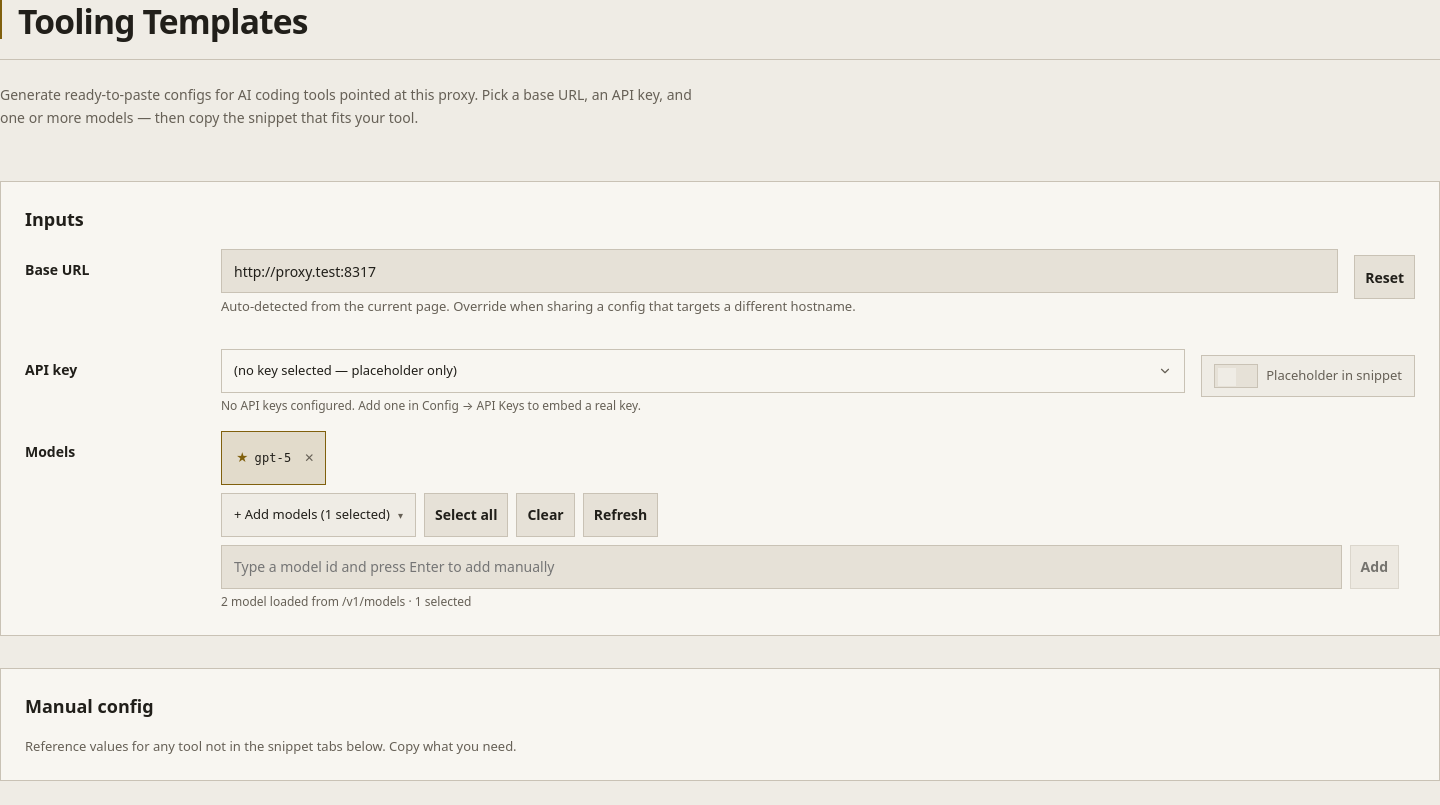
Test: ToolingTemplatesPage model chip actions › clears all selected models when Clear is clicked
Type "extra-model" into the field with placeholder "Type a model id and press Enter to add manually" at (781, 566), box [221,544,1342,588]
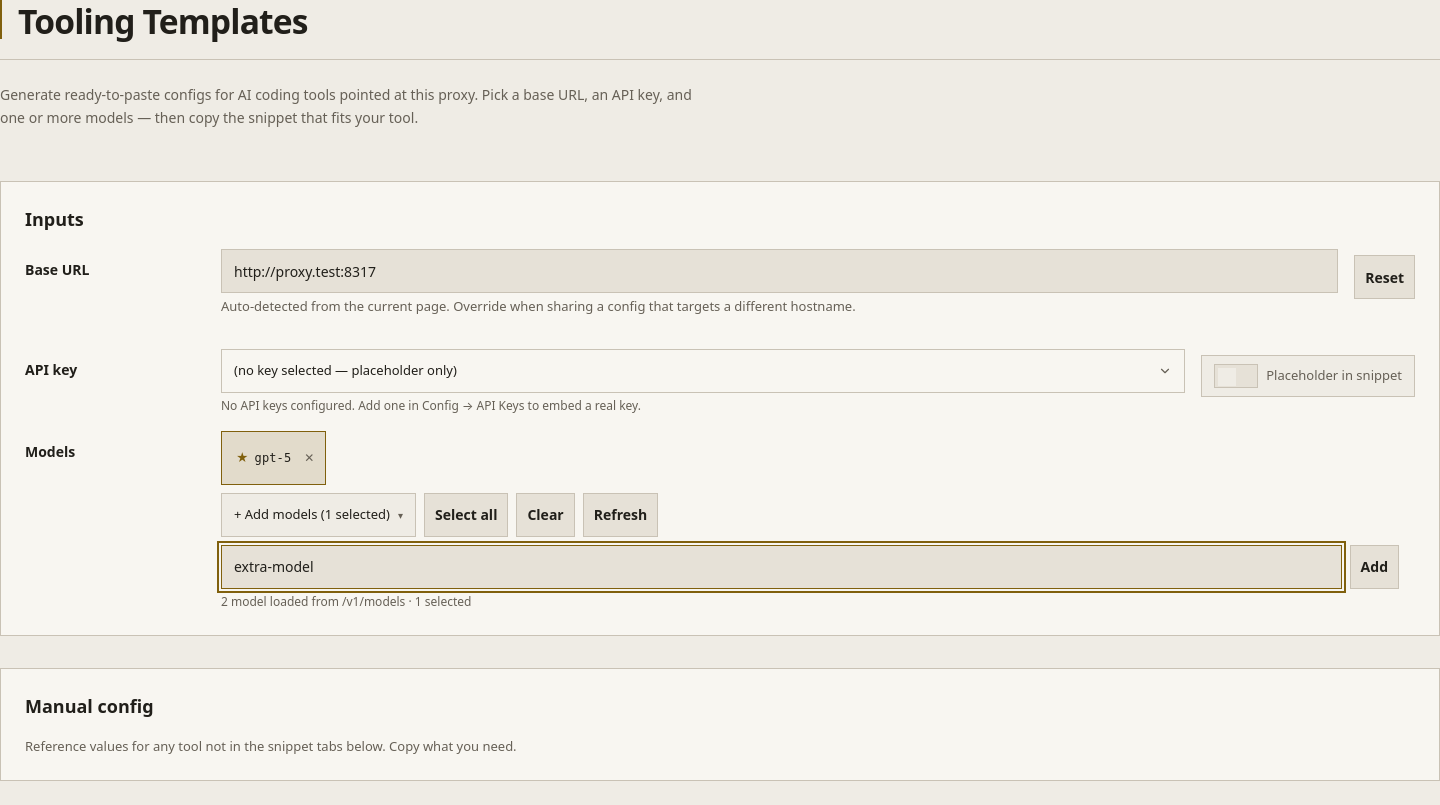
Click the button "Add" at (1374, 566), box [1350,544,1399,588]
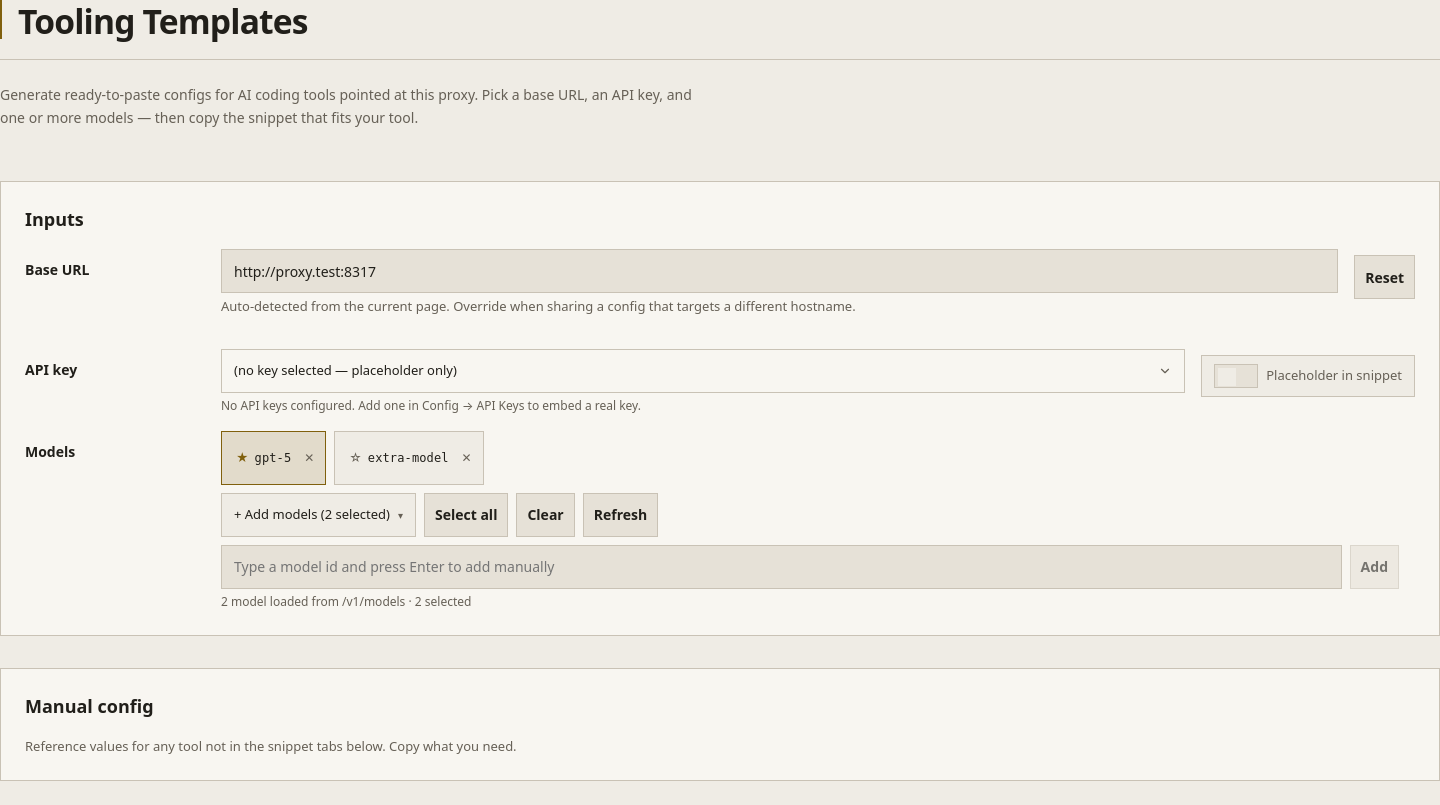
Click the button "Clear" at (546, 514), box [516,492,575,536]
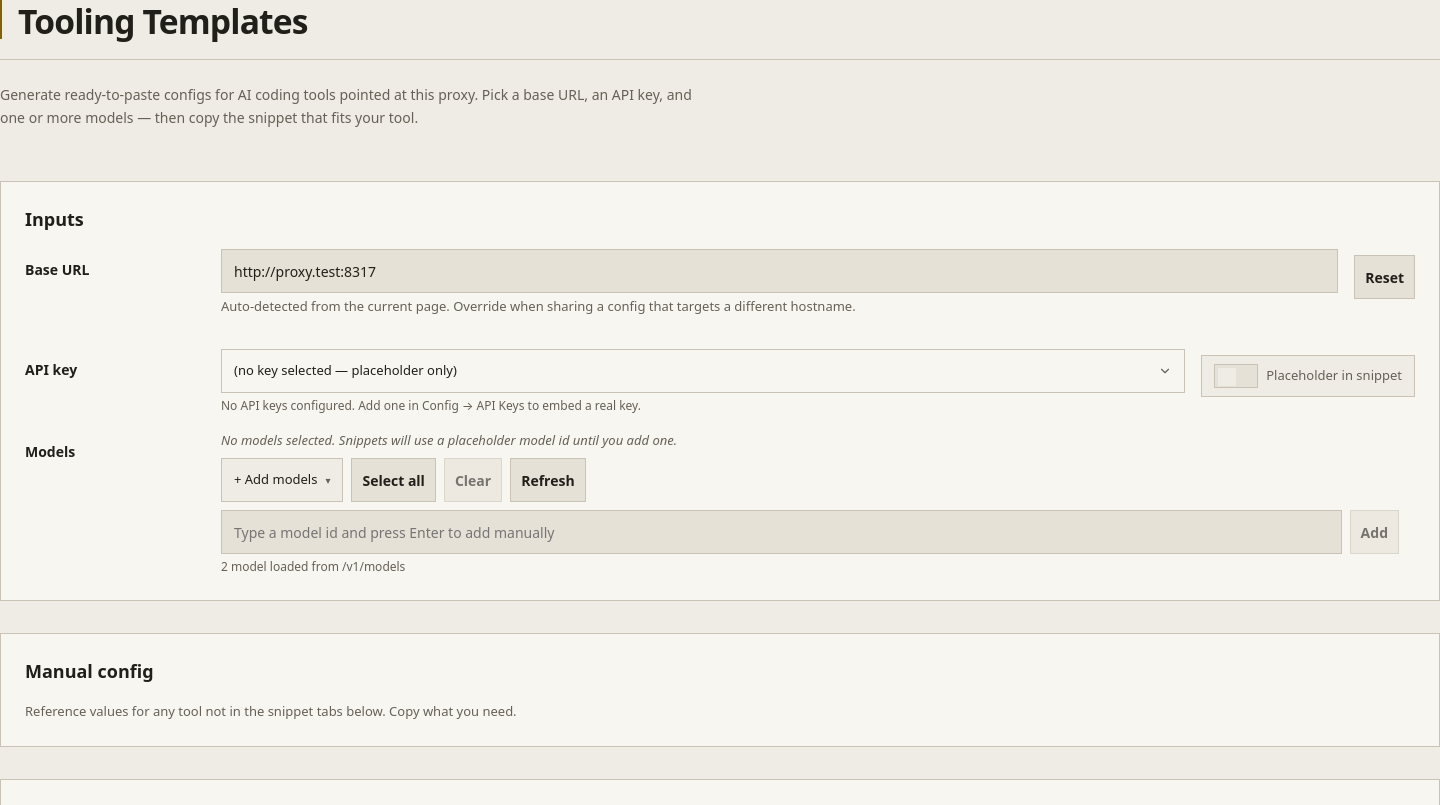
Expected: the text "No models selected." is shown, [221,430,677,448]
